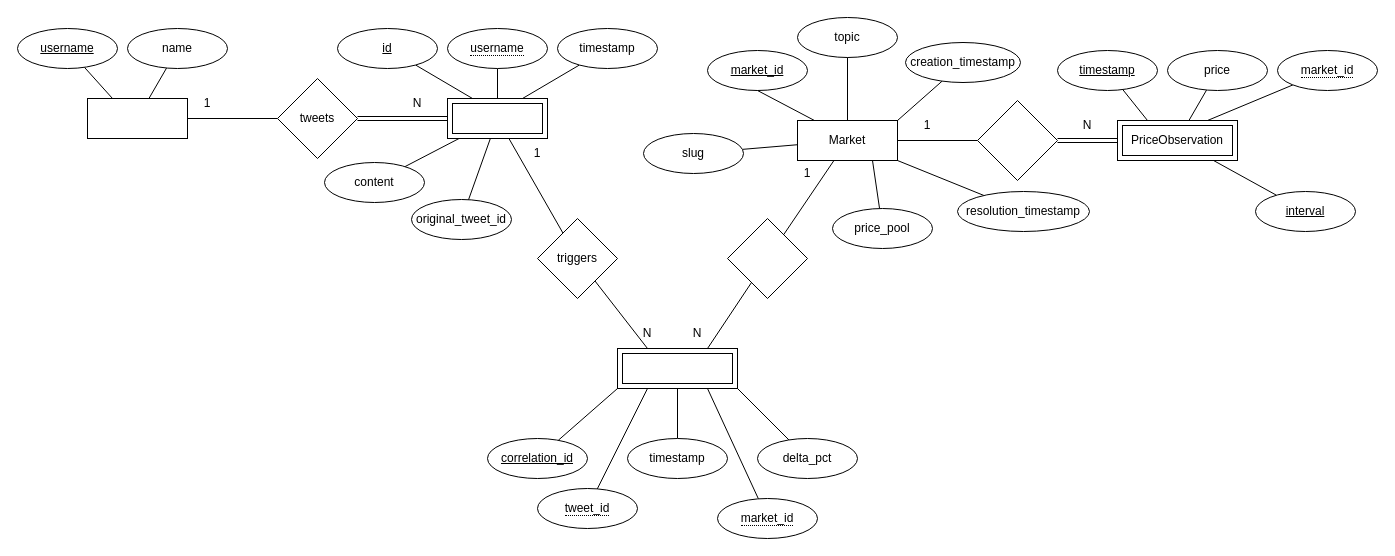
Image size: 1395x556. Some labels were removed from this diagram. Each missing label, with the box of its shape:
affects: (726, 218, 808, 298)
CorrelationEvent: (616, 348, 738, 388)
has: (976, 100, 1058, 180)
Politician: (86, 98, 188, 138)
Tweet: (446, 98, 548, 138)
